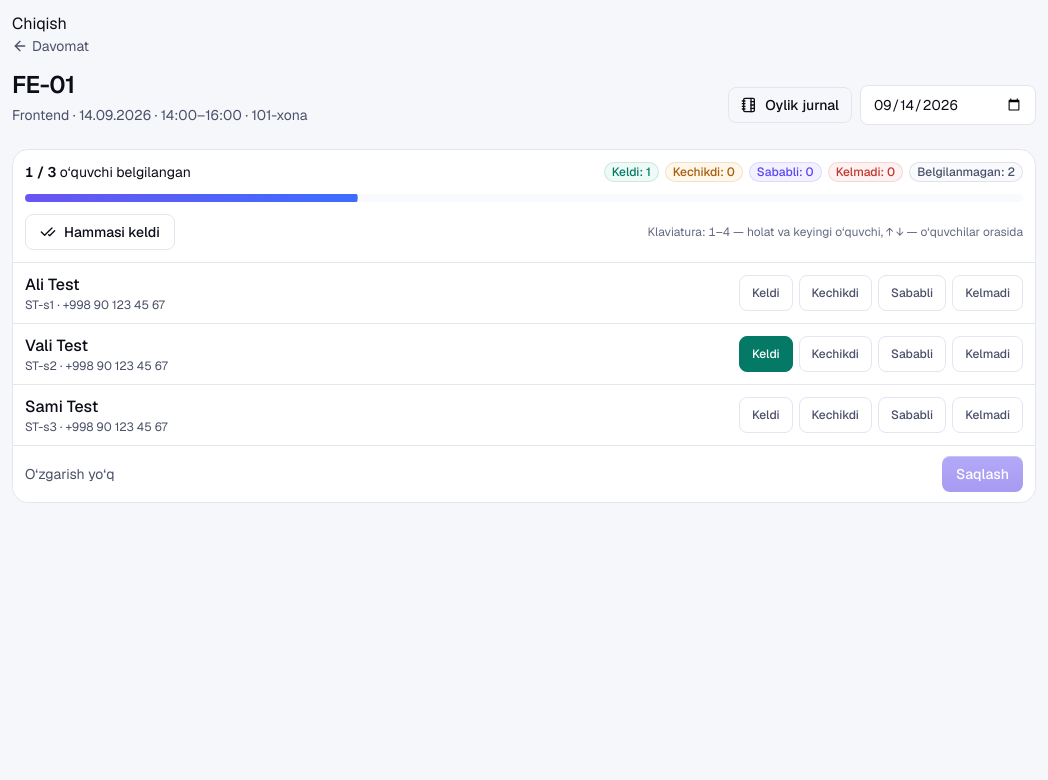
Test: GroupAttendancePage › saqlash xatosi ko‘rsatiladi va belgilar yo‘qolmaydi; saqlanayotganda ikkinchi so‘rov ketmaydi
This screenshot has width=1048, height=780.
Expected: the heading "FE-01" is shown, [12, 69, 75, 100]
Click the button "Keldi" in the row of "ST-s1": [766, 293] box [739, 275, 793, 311]
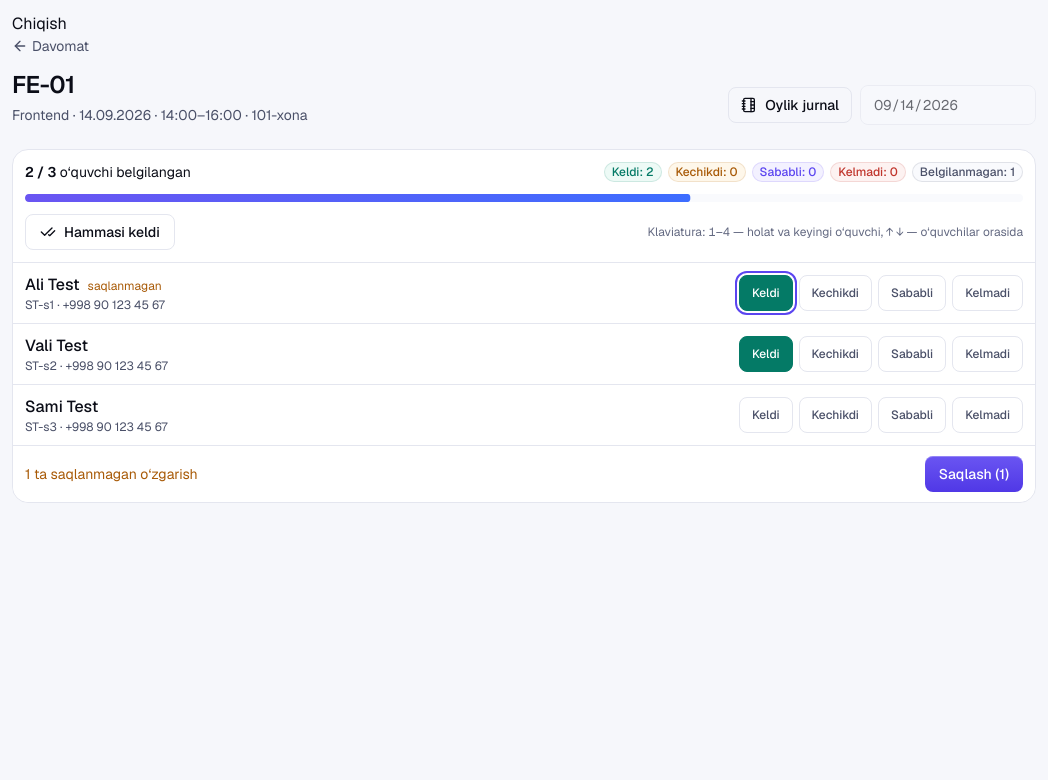
Click the button "Saqlash (1)": [974, 474] box [925, 456, 1023, 492]
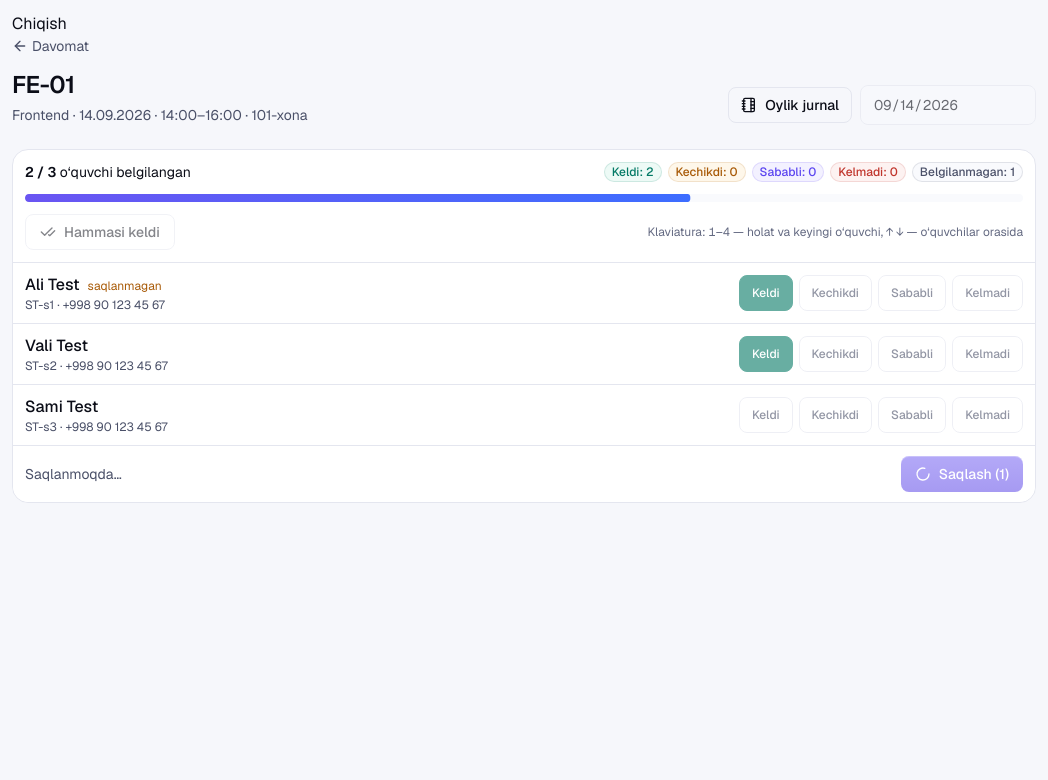
Result: the button "Saqlash (1)" is disabled
Click the button "Saqlash (1)": [962, 474] box [901, 456, 1023, 492]
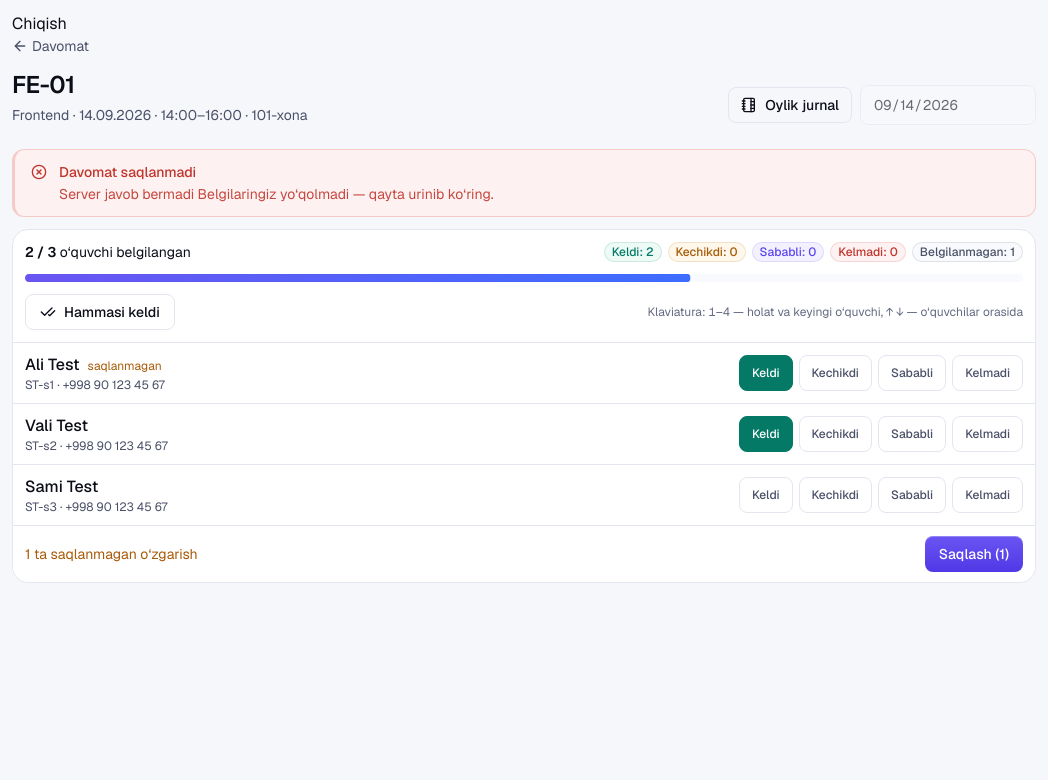
Result: the text "Davomat saqlanmadi" shows "Belgilaringiz yo‘qolmadi" at [194, 185, 494, 203]
Result: the button "Saqlash (1)" is enabled at [925, 536, 1023, 572]
